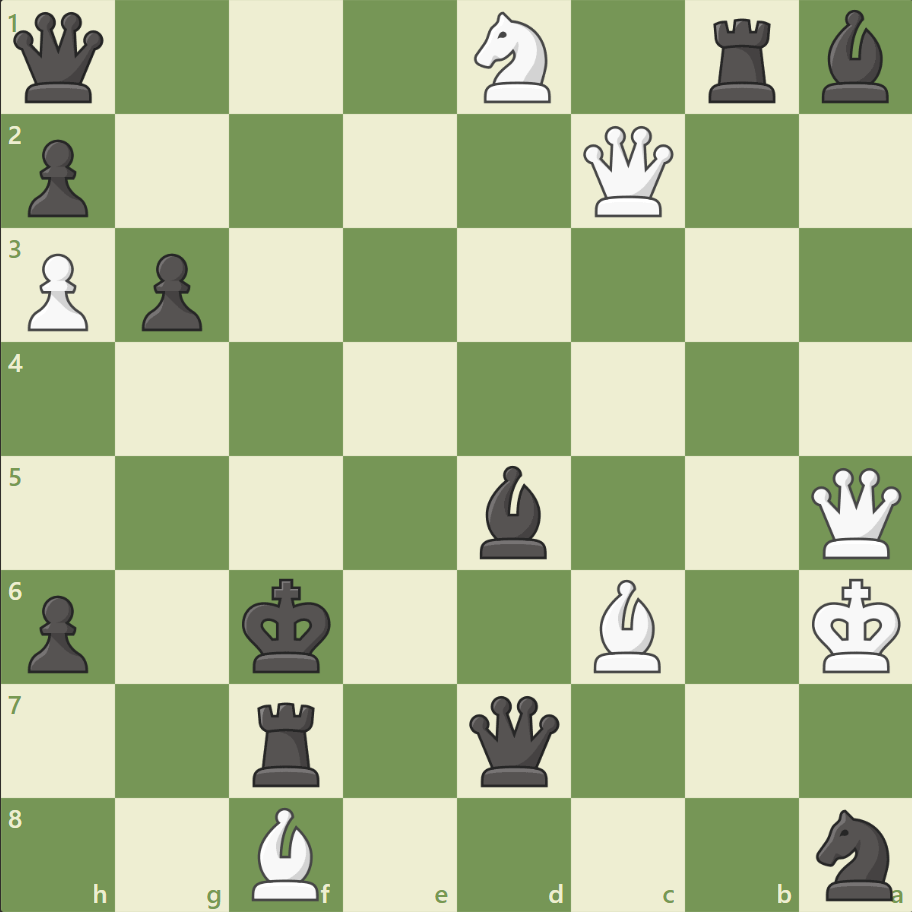B: (244, 801, 328, 904), (585, 574, 669, 676)
K: (806, 571, 906, 679)
N: (465, 7, 562, 110)
P: (20, 246, 95, 337)
Q: (578, 122, 677, 222), (805, 463, 904, 562)
b: (471, 460, 555, 563), (812, 6, 896, 109)
k: (238, 571, 338, 679)
n: (806, 802, 903, 904)
p: (20, 586, 95, 677), (133, 246, 208, 337), (20, 132, 95, 223)
q: (464, 690, 563, 789), (10, 9, 109, 108)
r: (246, 693, 329, 790), (700, 12, 783, 109)
